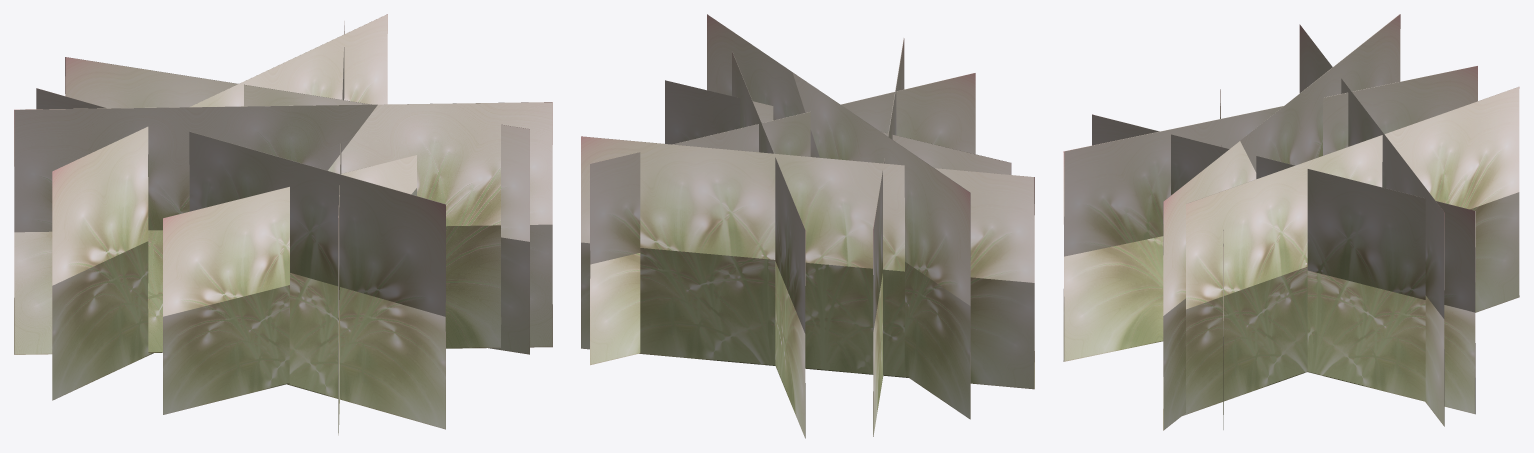
Rendered from Nettle.FBX.
3 renders of one model, left to right at view 1: azimuth 30°, elevation 25°; view 2: azimuth 150°, elevation 25°; view 3: azimuth 270°, elevation 25°, orthographic. The views are drawn at different scales.
Visible parts, largest first — view 1: Grass; view 2: Grass; view 3: Grass.
Part boxes in pixels (bbox=[...]): Grass: bbox=[14, 14, 552, 435]; Grass: bbox=[581, 14, 1034, 438]; Grass: bbox=[1063, 14, 1519, 430].
Bounding box in the file's own units: 2.49 × 2.39 × 1.35.
